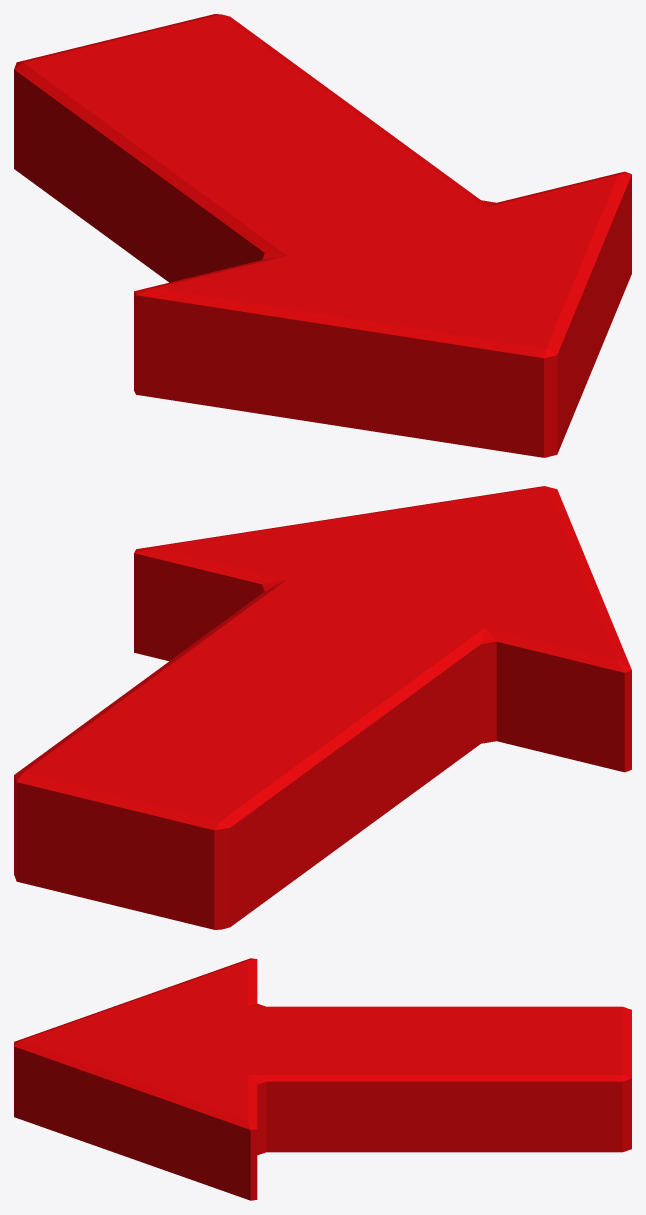
File: uploads_files_6097905_Simple+Arrow.fbx
3 views of the same model, one above another, from view 1: azimuth 30°, elevation 25°; view 2: azimuth 150°, elevation 25°; view 3: azimuth 270°, elevation 25° (orthographic). The views are drawn at different scales.
Parts seen in each view (by area): view 1: Cube.001; view 2: Cube.001; view 3: Cube.001.
Part boxes in pixels (x1,y1,x2,y2): Cube.001: (14,14,631,457); Cube.001: (14,486,631,929); Cube.001: (14,958,631,1200).
Bounding box in the file's own units: 3.72 × 0.781 × 5.66.
